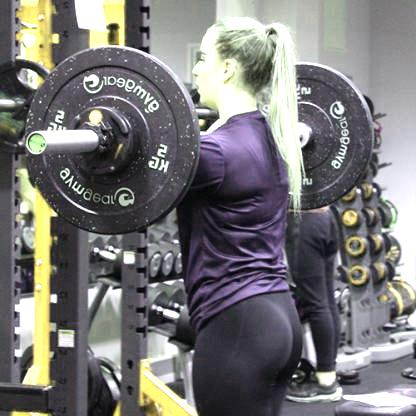Barbell: (23, 132, 43, 156)
